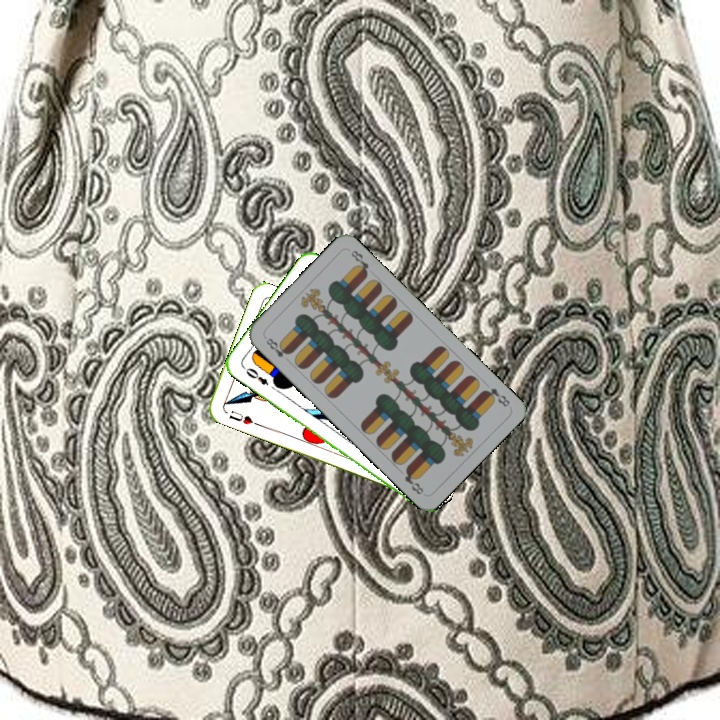E8: (260, 333, 293, 361), (478, 384, 512, 410)
EO: (239, 362, 271, 388)
HU: (225, 406, 260, 428)
